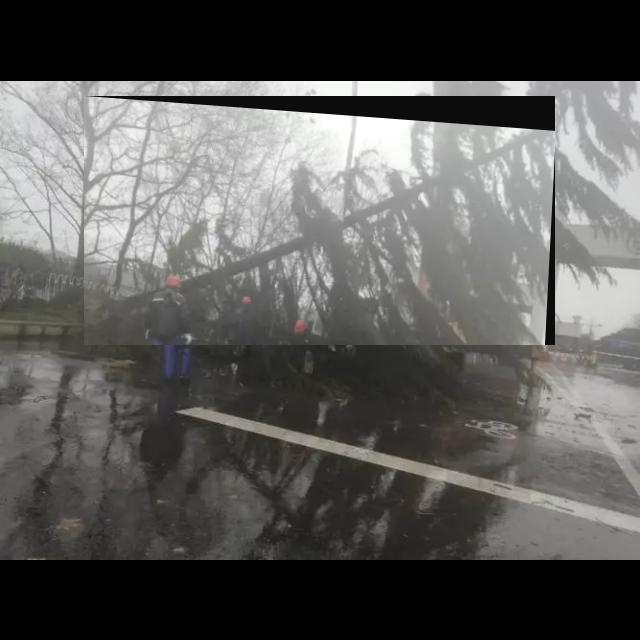Fallen Tree: (84, 96, 556, 346)
